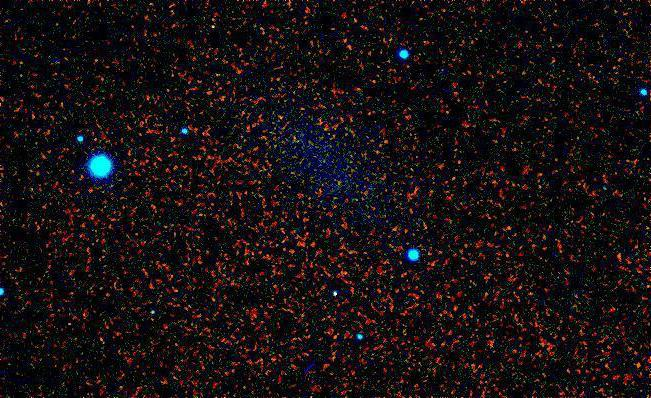star: (195, 9, 225, 39)
